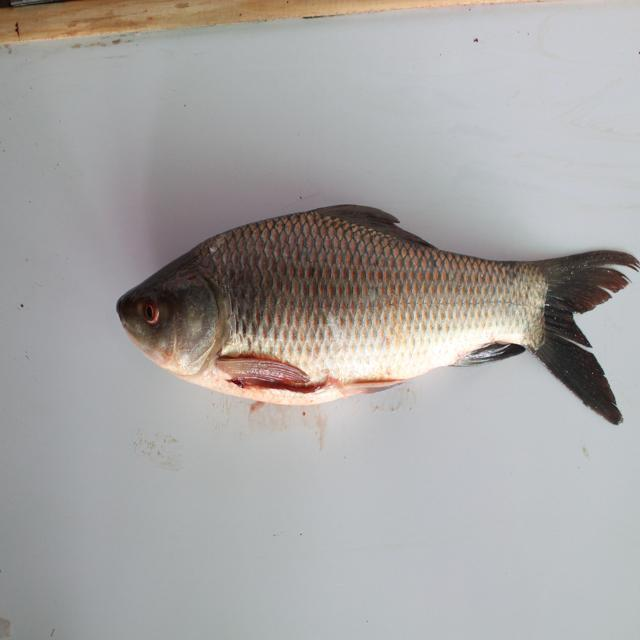Rohu: (107, 199, 626, 430)
